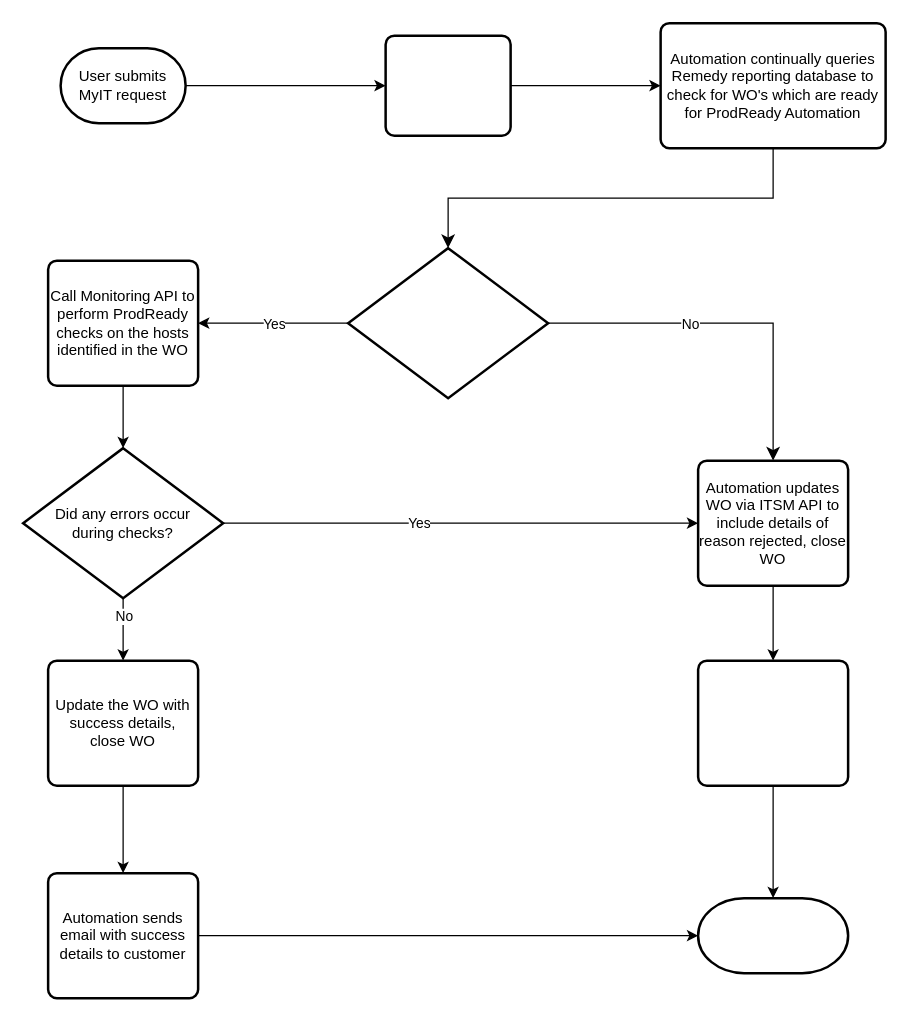
This 908x1020 diagram has some shape labels left out. The shapes that lost their labels are listed below. From the top down, each one's centre as x and y in pixels, then its label:
pixel 447 85: New WO is created in Remedy by MyIT integration
pixel 447 322: Validate WO inputs: Are inputs valid?
pixel 772 722: Automation sends email with details of reason rejected to customer
pixel 772 935: Process complete
